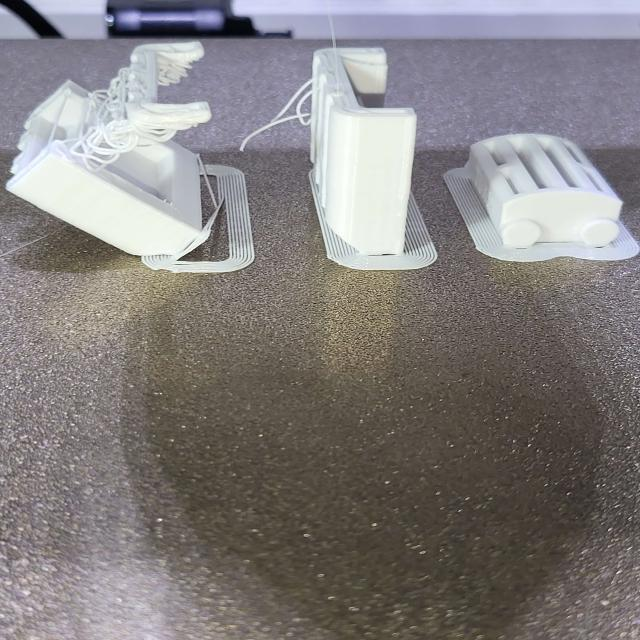spaghetti: (54, 56, 200, 162), (234, 71, 320, 160)
